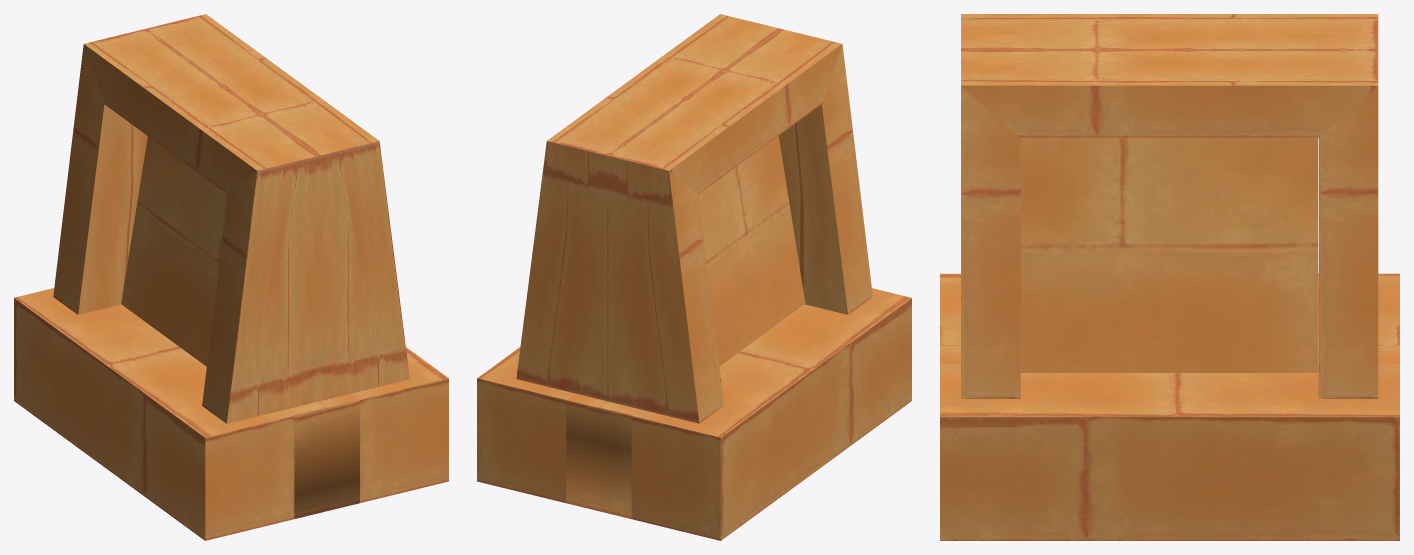
File: temple-embelisher01.glb
3 views of the same model, side by side, from view 1: azimuth 30°, elevation 25°; view 2: azimuth 150°, elevation 25°; view 3: azimuth 270°, elevation 25° (orthographic). The views are drawn at different scales.
Parts seen in each view (by area): view 1: TempleEmbelisher01_Art; view 2: TempleEmbelisher01_Art; view 3: TempleEmbelisher01_Art.
Boxes of the visible parts, x1,y1,x2,y2 form: TempleEmbelisher01_Art: (14,14,448,540); TempleEmbelisher01_Art: (477,14,911,540); TempleEmbelisher01_Art: (940,14,1399,540).
Bounding box in the file's own units: 5.29 × 7.23 × 7.18.
Materials: 1 (1 with a texture image).
